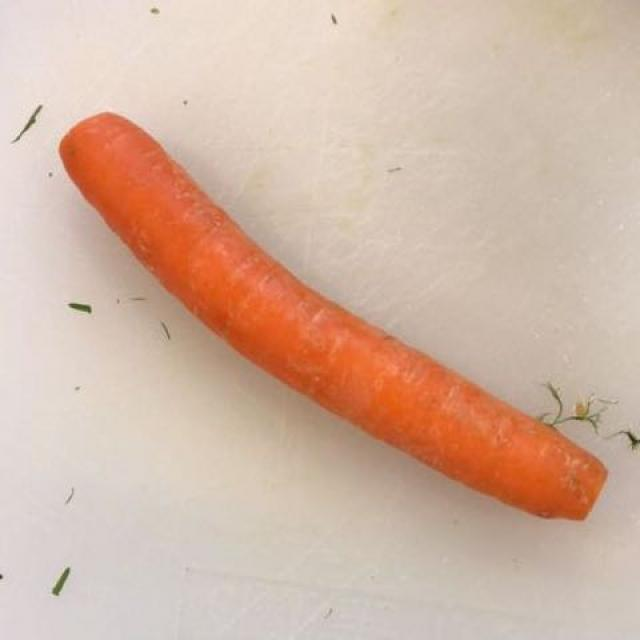carrot-raw: (63, 118, 611, 503)
